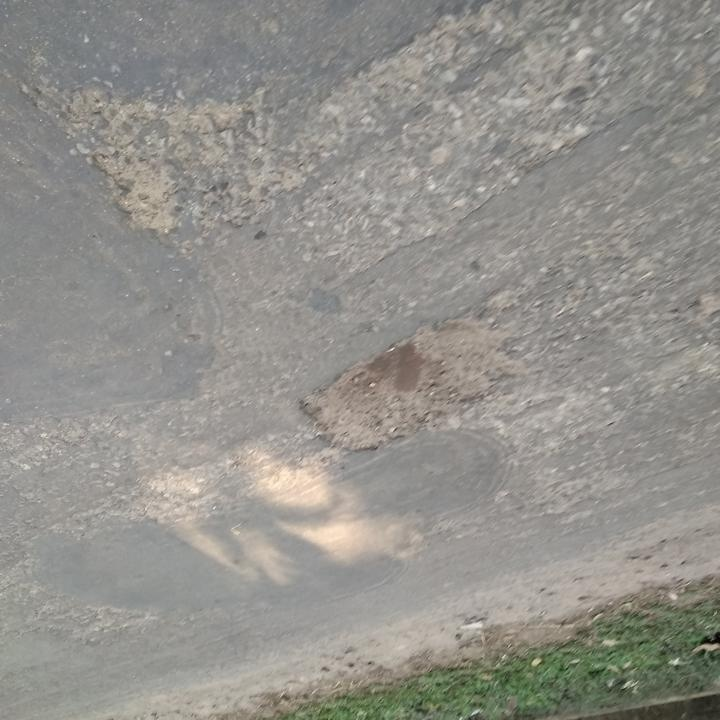pothole: (294, 308, 530, 455), (89, 147, 181, 243)
